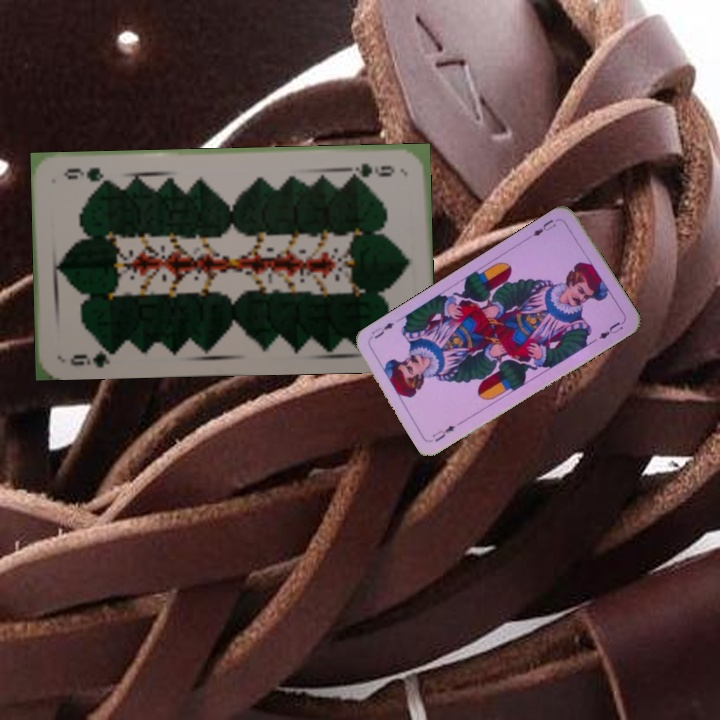EU: (525, 215, 559, 242), (428, 421, 458, 445)
G9: (66, 343, 119, 371), (345, 159, 397, 179)
